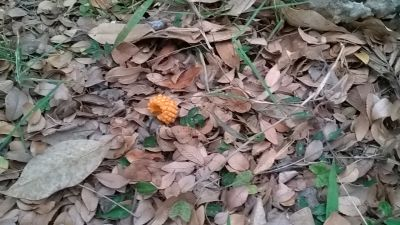eggs: (149, 95, 181, 124)
